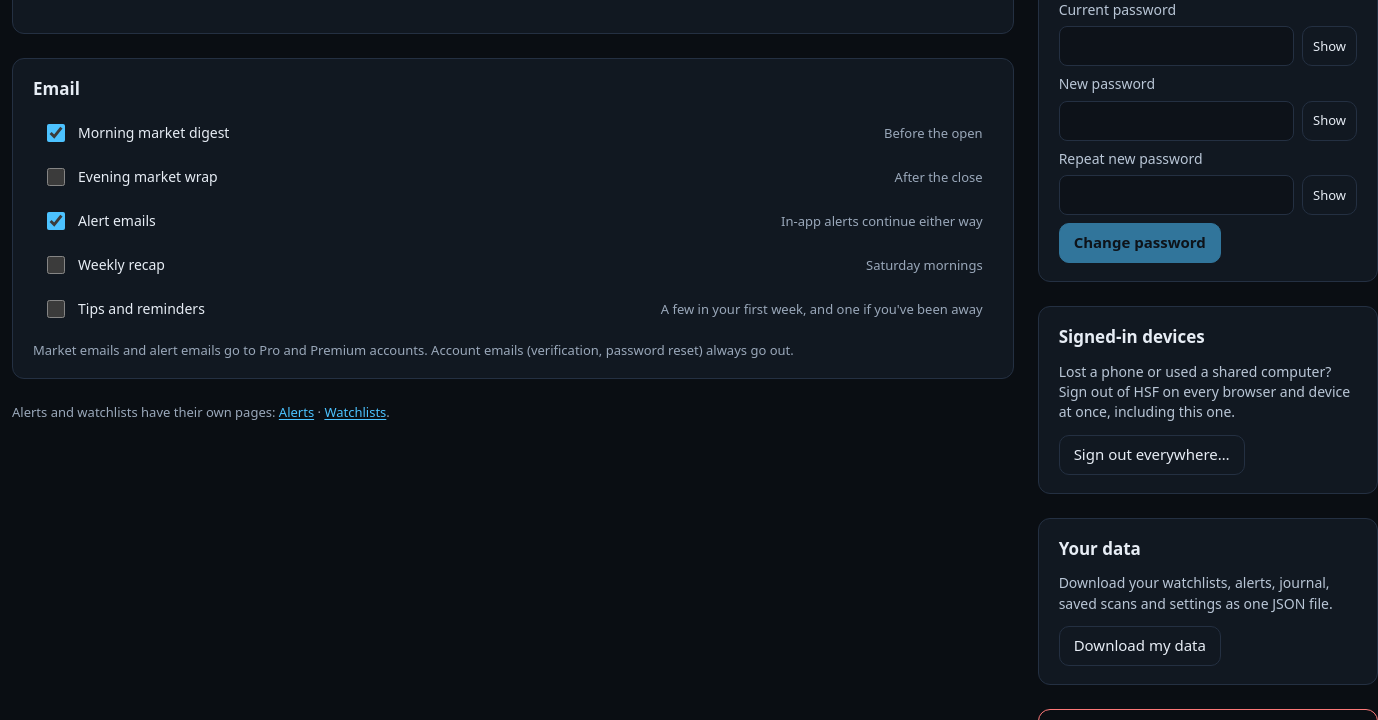
Test case: Account › downloads your data as a JSON file and says which parts couldn't be read
This screenshot has width=1378, height=720.
(page scrolled)
Step 1. Click the button "Download my data" → [1140, 646], box [1059,626,1221,666]
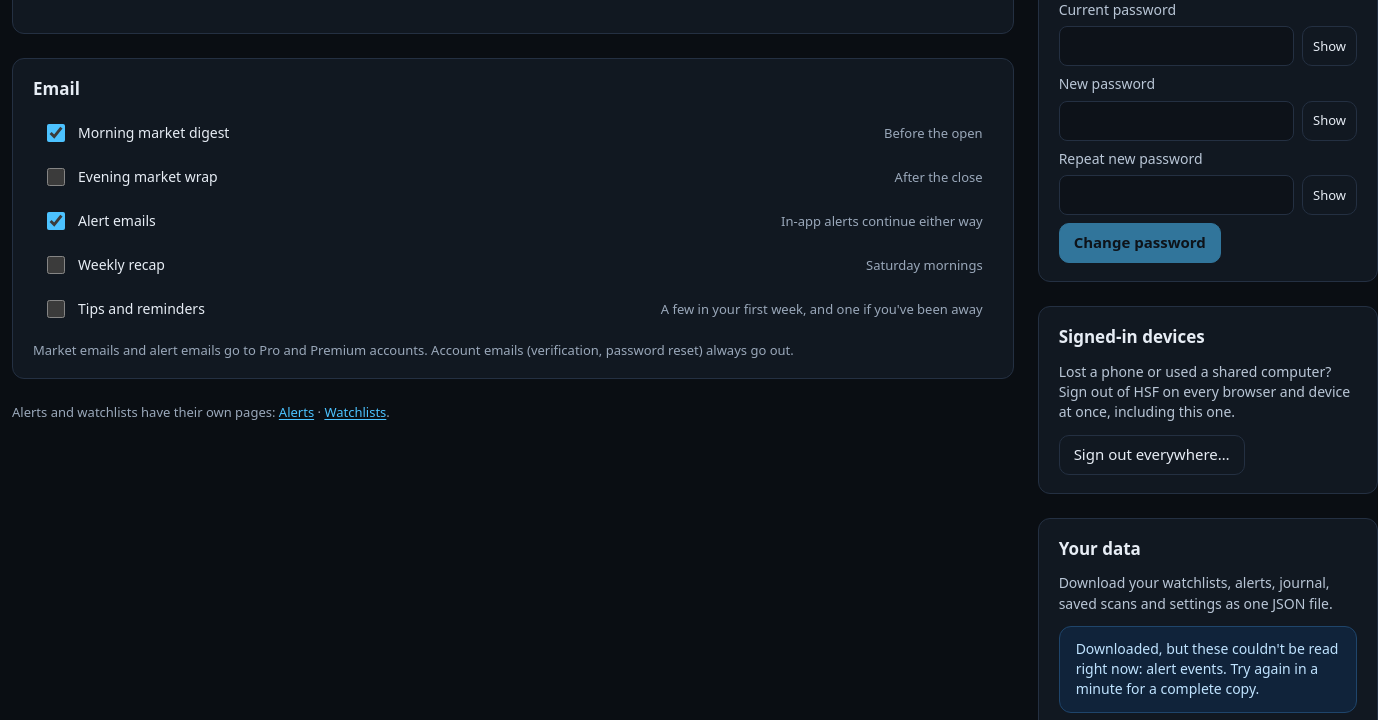
Now the message shows "couldn't be read right now: alert events", box [1059,626,1357,713]
